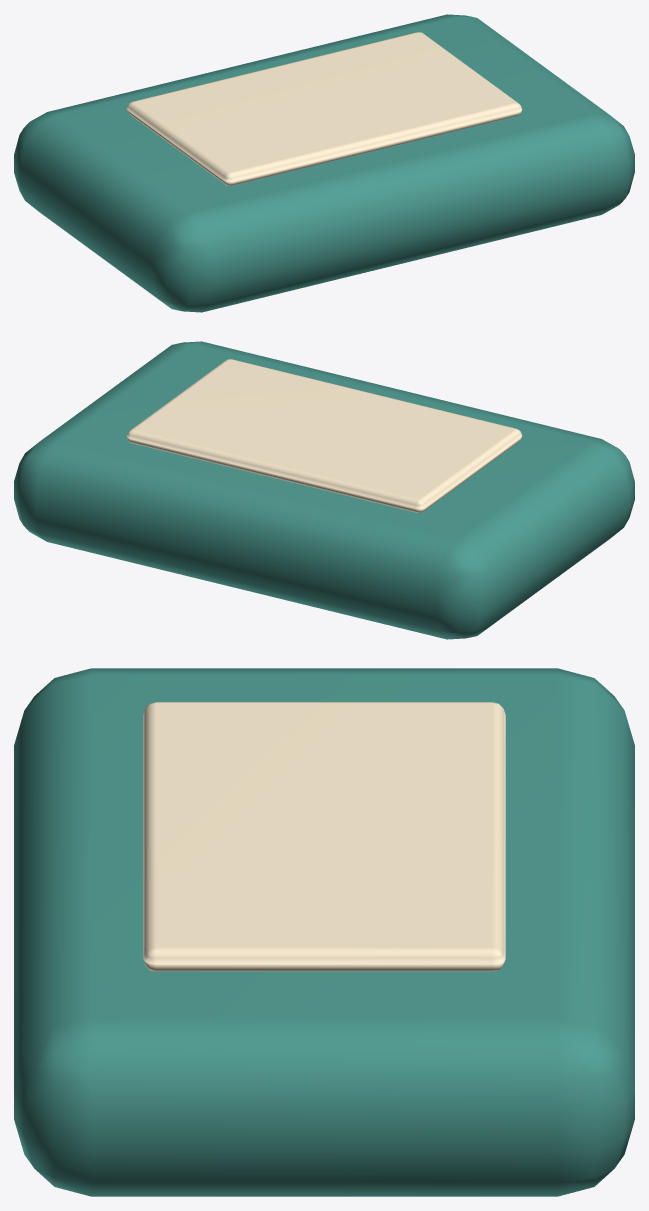
The model's file is practice_curb.glb.
3 views of the same model, one above another, from view 1: azimuth 30°, elevation 25°; view 2: azimuth 150°, elevation 25°; view 3: azimuth 270°, elevation 25° (orthographic). The views are drawn at different scales.
Visible parts, largest first — view 1: practice_curb_mesh; view 2: practice_curb_mesh; view 3: practice_curb_mesh.
Part boxes in pixels (box(x1,y1,x2,y2)): practice_curb_mesh: box(14, 14, 634, 312); practice_curb_mesh: box(14, 341, 634, 639); practice_curb_mesh: box(14, 668, 634, 1196).
Size of the model in its own units: 0.56 by 0.1235 by 0.36.
